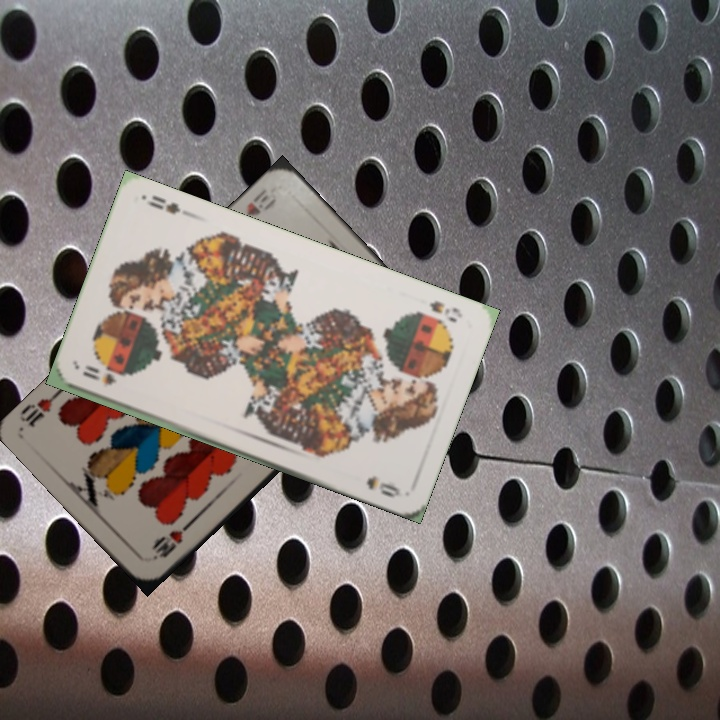H10: (148, 518, 195, 563), (242, 184, 280, 219)
SO: (425, 297, 465, 326), (78, 367, 120, 388)
